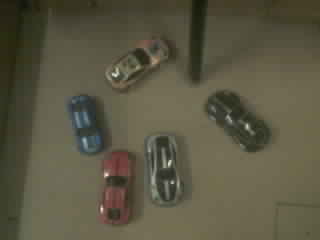Car: (208, 90, 266, 149), (106, 38, 169, 89), (146, 133, 183, 205), (100, 151, 132, 223), (71, 95, 100, 151)
